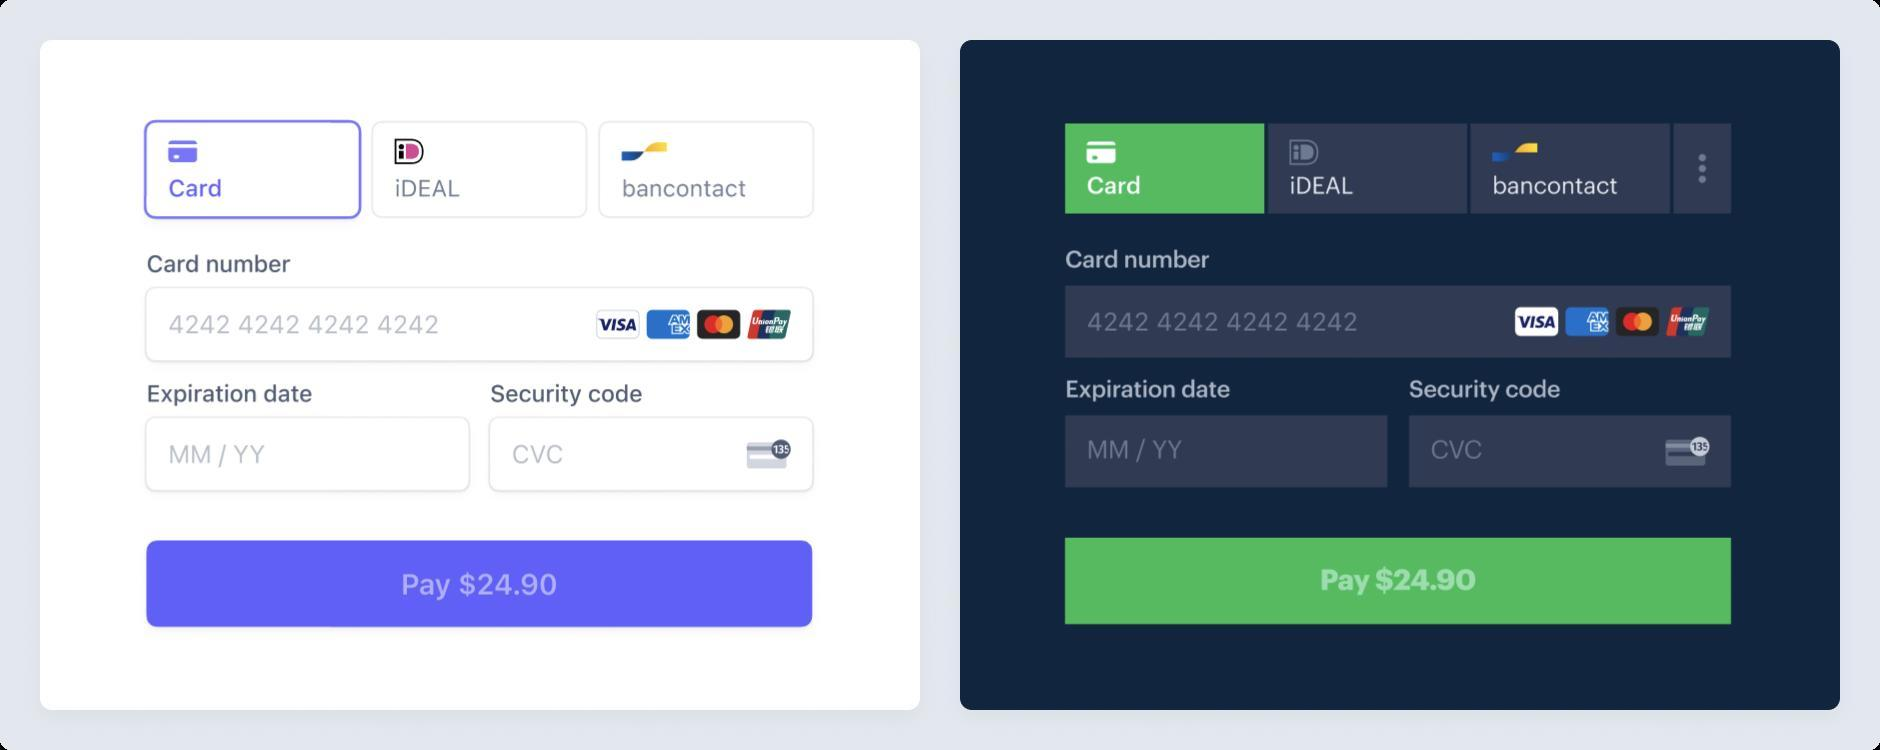button: (1063, 539, 1733, 627), (149, 540, 814, 627), (597, 122, 819, 217), (375, 122, 590, 219), (1472, 120, 1679, 220), (147, 123, 361, 220), (1063, 120, 1267, 219), (1269, 120, 1466, 214)
icon: (1694, 146, 1715, 196)
input: (147, 288, 813, 364), (1063, 286, 1735, 359), (141, 413, 472, 498), (488, 412, 817, 496), (1060, 412, 1391, 491), (1408, 411, 1737, 486)
label: (1065, 375, 1234, 405), (146, 247, 294, 279), (1067, 244, 1211, 277), (490, 379, 644, 409), (1411, 375, 1563, 405), (143, 383, 314, 409)
